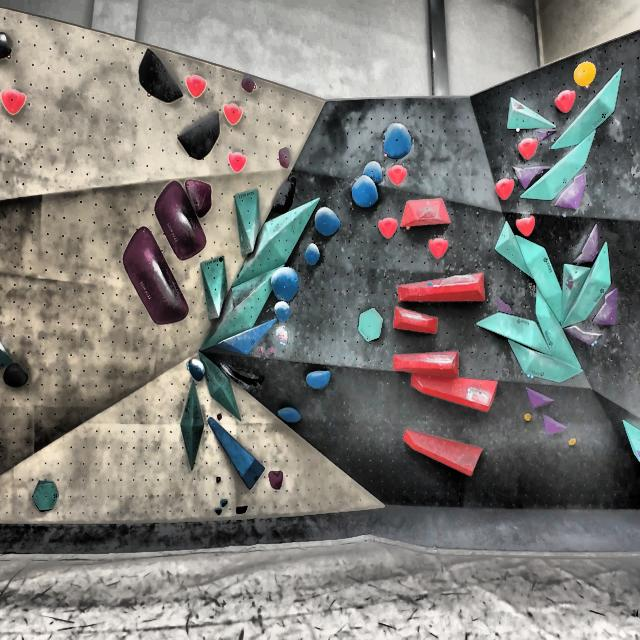Hold: (118, 223, 192, 334), (208, 416, 266, 491), (153, 180, 208, 259), (399, 431, 489, 478), (407, 372, 502, 414), (137, 44, 186, 107), (398, 274, 493, 304), (178, 110, 222, 162), (391, 346, 461, 376), (220, 318, 276, 354), (399, 195, 452, 230), (572, 218, 604, 269), (554, 172, 592, 214), (389, 307, 446, 335), (379, 122, 416, 159), (219, 360, 264, 390), (514, 158, 556, 190), (594, 288, 624, 327), (188, 177, 216, 216), (265, 269, 298, 301), (348, 174, 382, 205), (566, 324, 605, 347), (314, 206, 342, 238), (0, 87, 29, 117), (423, 237, 455, 263), (2, 362, 31, 390), (526, 383, 556, 410), (512, 213, 536, 239), (572, 62, 599, 85), (552, 86, 575, 113), (542, 417, 571, 438), (303, 241, 324, 270), (222, 100, 246, 125), (361, 159, 386, 183), (494, 176, 514, 205), (274, 302, 298, 325), (225, 147, 246, 173), (514, 139, 541, 159), (306, 368, 330, 389), (504, 92, 528, 112), (0, 29, 14, 62), (277, 140, 293, 168), (188, 355, 205, 381), (186, 74, 206, 96), (278, 404, 301, 423), (495, 294, 514, 316), (268, 469, 285, 491), (532, 126, 552, 143), (242, 73, 256, 93), (278, 327, 291, 345), (562, 279, 576, 292), (236, 505, 250, 516), (522, 414, 534, 425), (217, 497, 227, 507), (212, 509, 225, 516), (571, 437, 579, 448)
